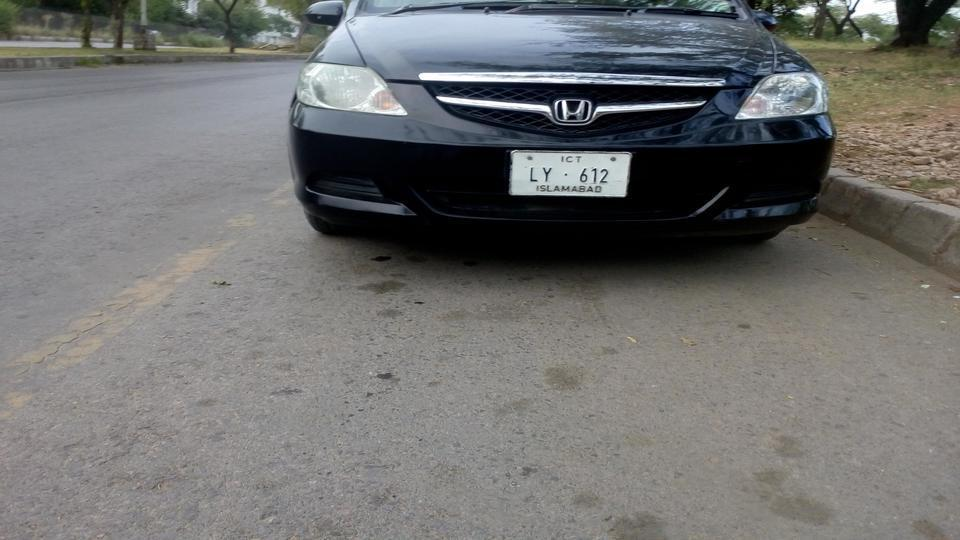NumberPlate: (508, 146, 633, 203)
